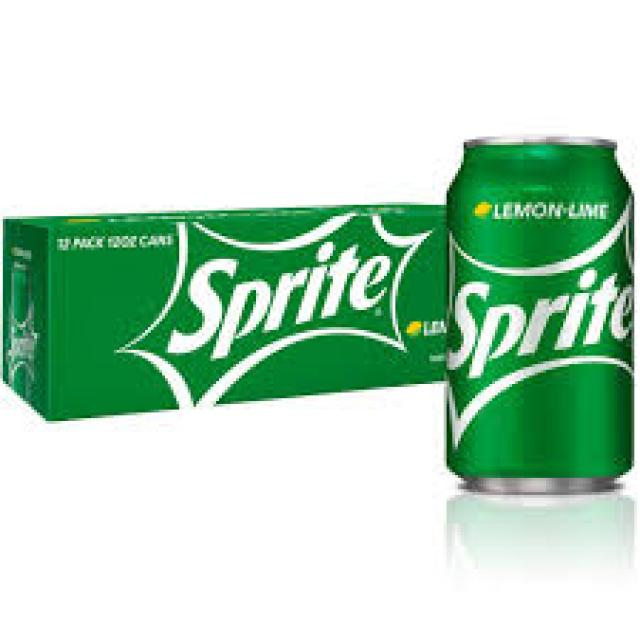Cans: (435, 122, 640, 512)
